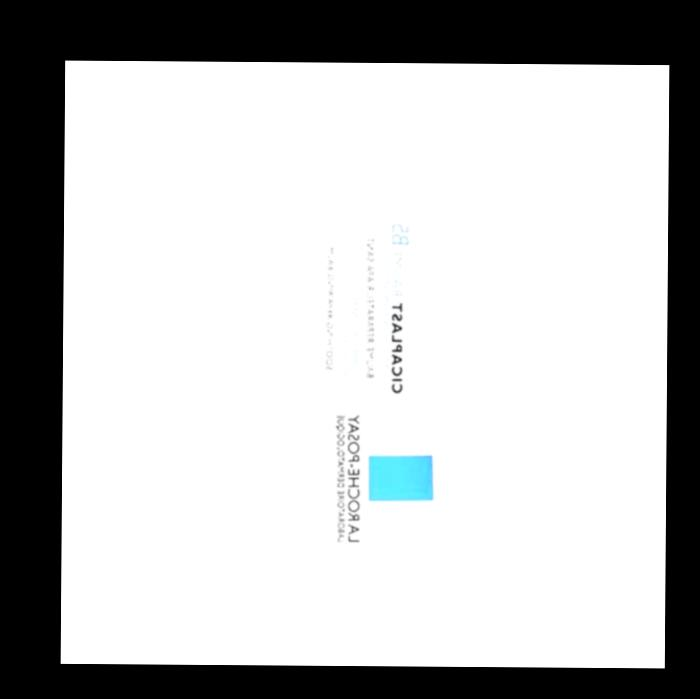cosmetic: (257, 102, 483, 611)
